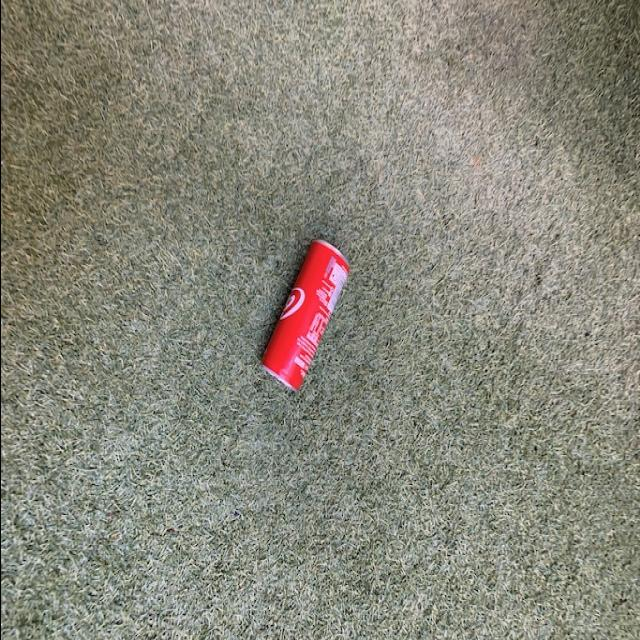Aluminum Can: (257, 230, 353, 399)
